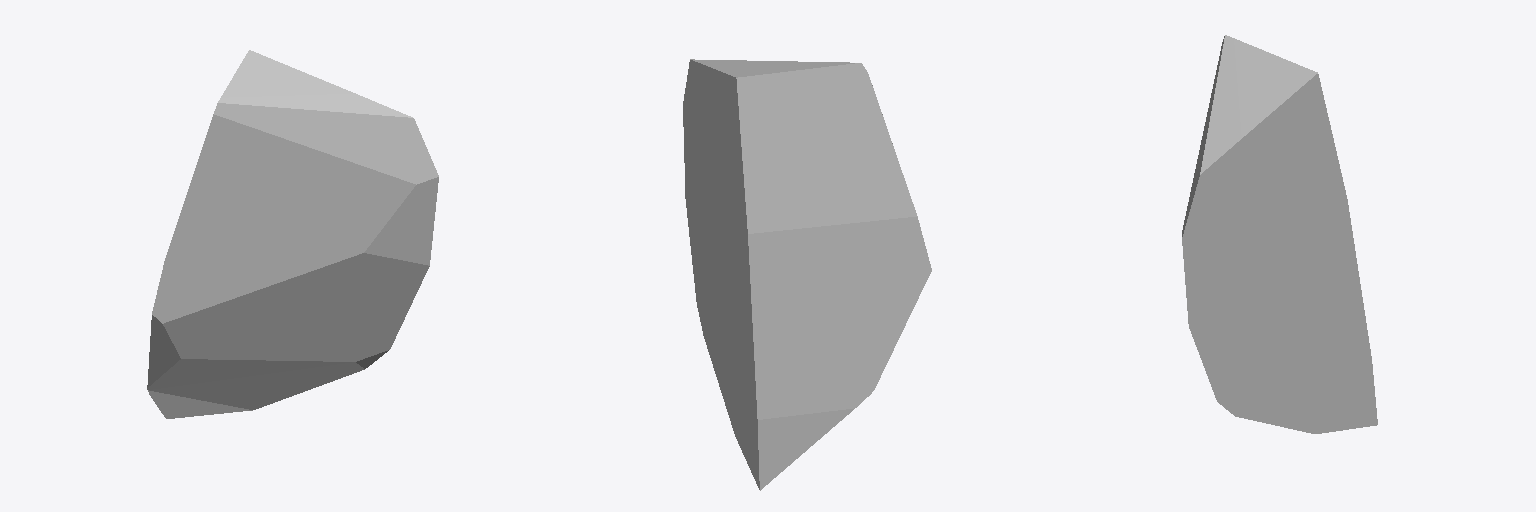
Rendered from li-fang-ti-.001_cell.021.obj.
The picture shows the model from 3 angles: view 1: azimuth 30°, elevation 25°; view 2: azimuth 150°, elevation 25°; view 3: azimuth 270°, elevation 25°; orthographic projection.
Parts seen in each view (by area): view 1: 立方体.001_cell.021; view 2: 立方体.001_cell.021; view 3: 立方体.001_cell.021.
Boxes of the visible parts, box(x1,y1,x2,y2) form: 立方体.001_cell.021: box(147, 50, 438, 418); 立方体.001_cell.021: box(683, 59, 931, 490); 立方体.001_cell.021: box(1182, 35, 1377, 433).
Size of the model in its own units: 0.3658 by 0.4934 by 0.2315.